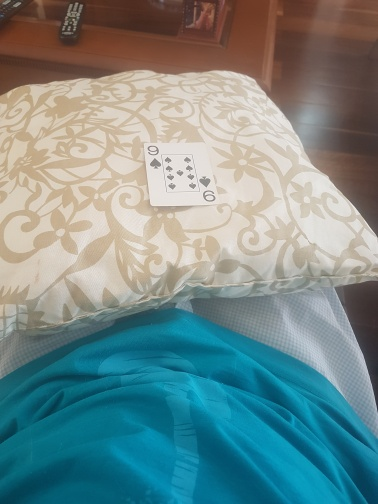nine: (142, 143, 220, 208)
